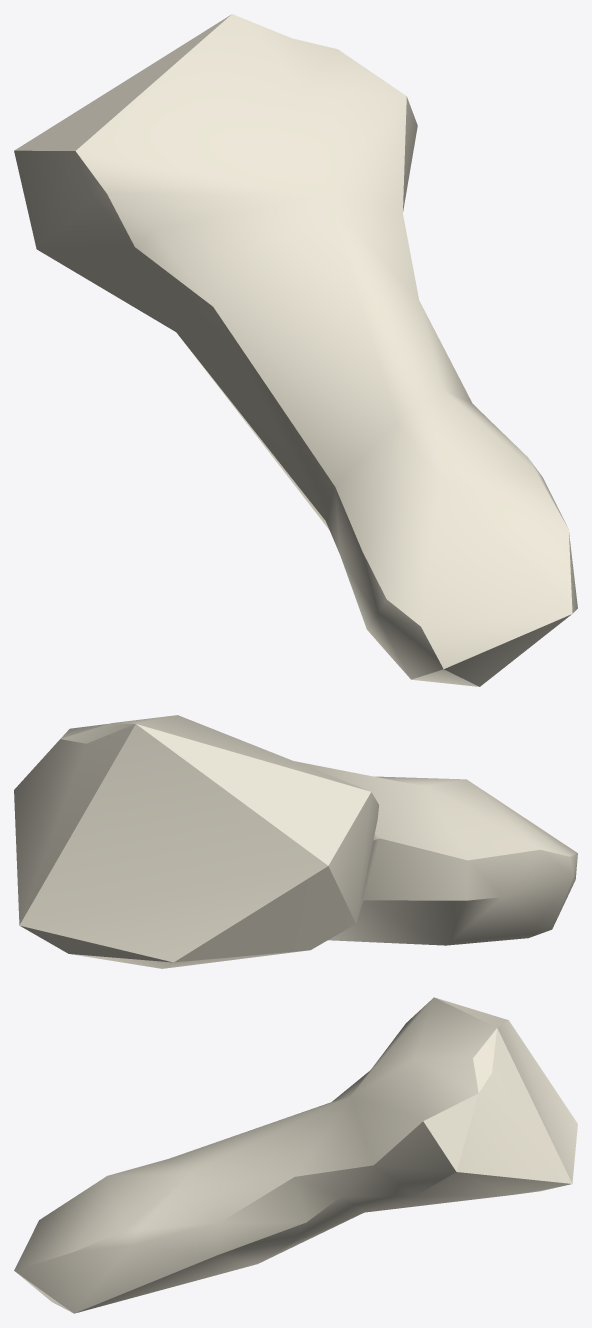
File: fma24462_fj3197.glb
3 views of the same model, one above another, from view 1: azimuth 30°, elevation 25°; view 2: azimuth 150°, elevation 25°; view 3: azimuth 270°, elevation 25° (orthographic). The views are drawn at different scales.
Visible parts, largest first — view 1: FMA24462_FJ3197; view 2: FMA24462_FJ3197; view 3: FMA24462_FJ3197.
Part boxes in pixels (x1,y1,x2,y2): FMA24462_FJ3197: [14, 14, 577, 686]; FMA24462_FJ3197: [14, 715, 577, 968]; FMA24462_FJ3197: [14, 997, 577, 1313].
Bounding box in the file's own units: 0.00833 × 0.00914 × 0.0157.
